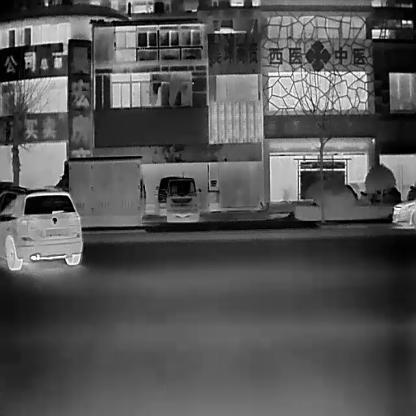car: (0, 190, 82, 268), (166, 176, 198, 221), (154, 176, 180, 216)
